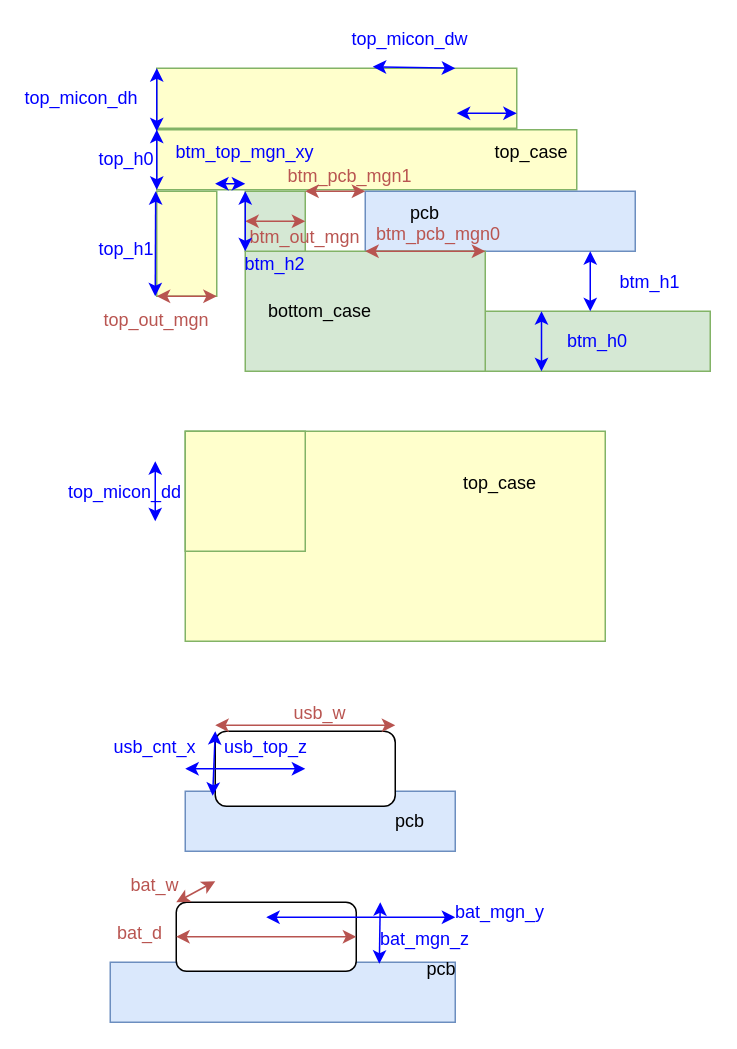
Some shapes in this 737 by 1049 pixel diagram are drawn without their labels. The centre of each missing label's shape, as x and y in pixels:
top_case_micon: the point at 244,490
top_micon_wall: the point at 336,97
